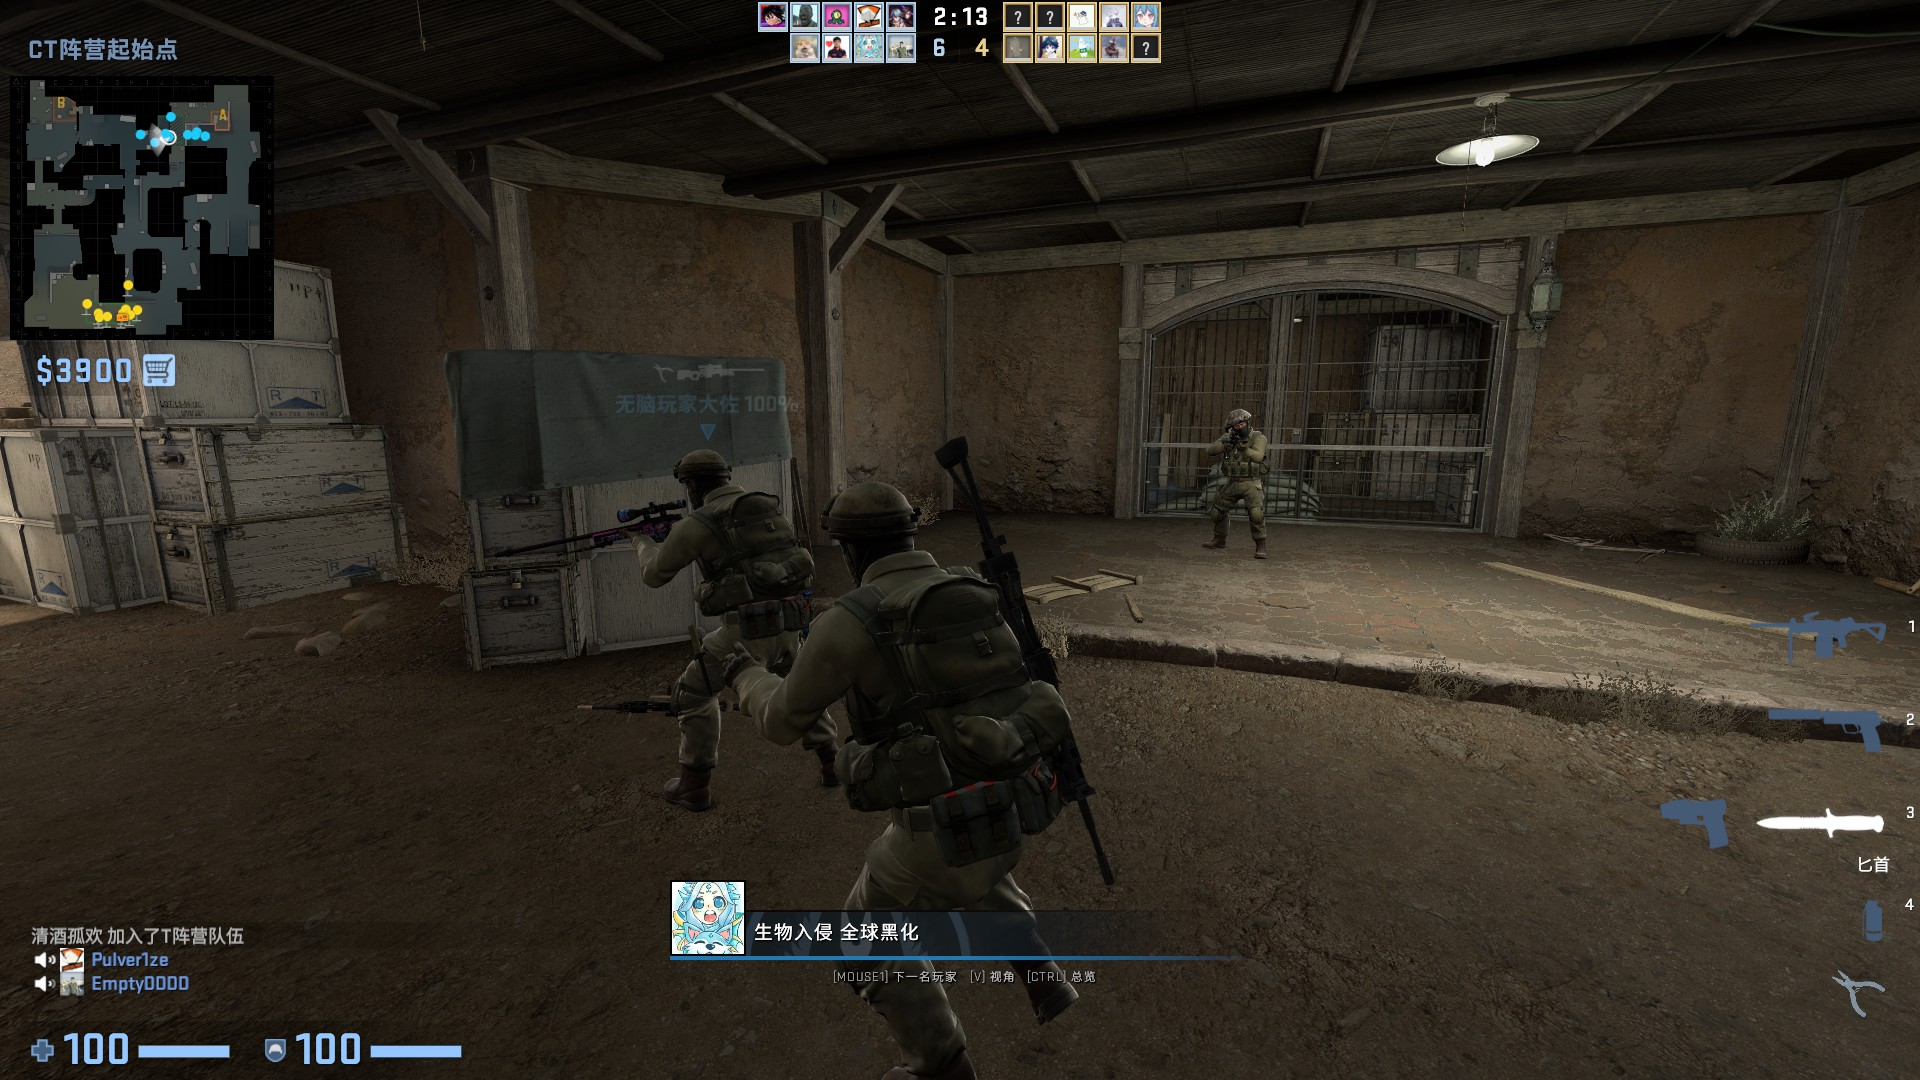head: (819, 479, 921, 561), (668, 445, 739, 496), (1224, 408, 1254, 437)
